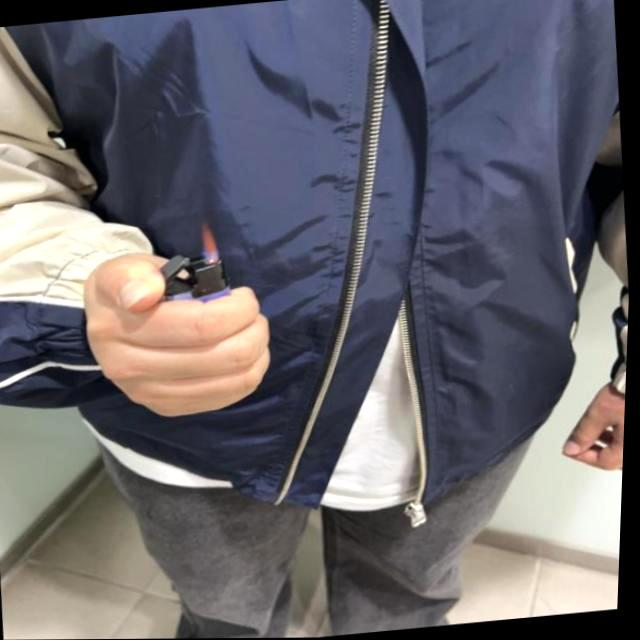fire: (198, 222, 226, 266)
